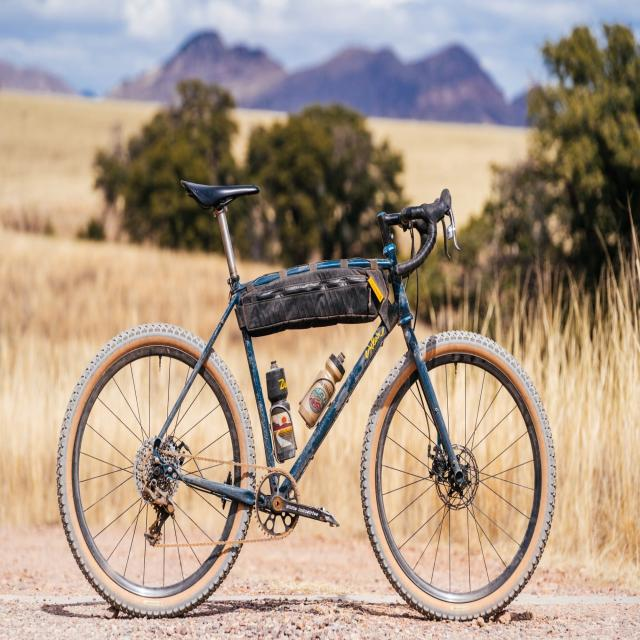bicycle: (61, 156, 569, 640)
